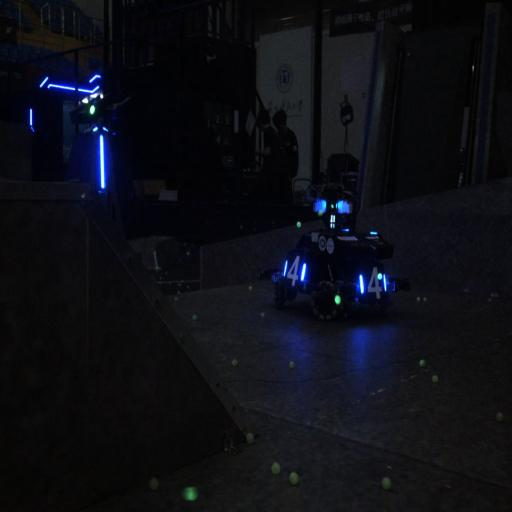target: (354, 265, 392, 310), (282, 247, 312, 296)
